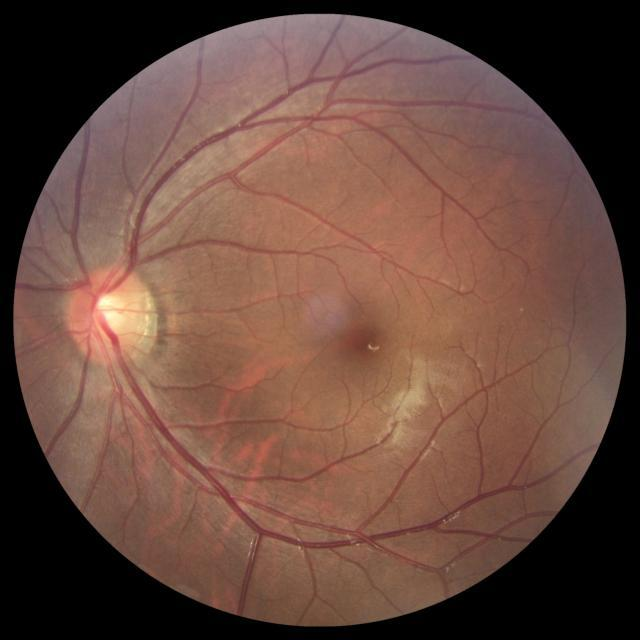OC: (90, 292, 128, 331)
OD: (68, 265, 152, 363)
